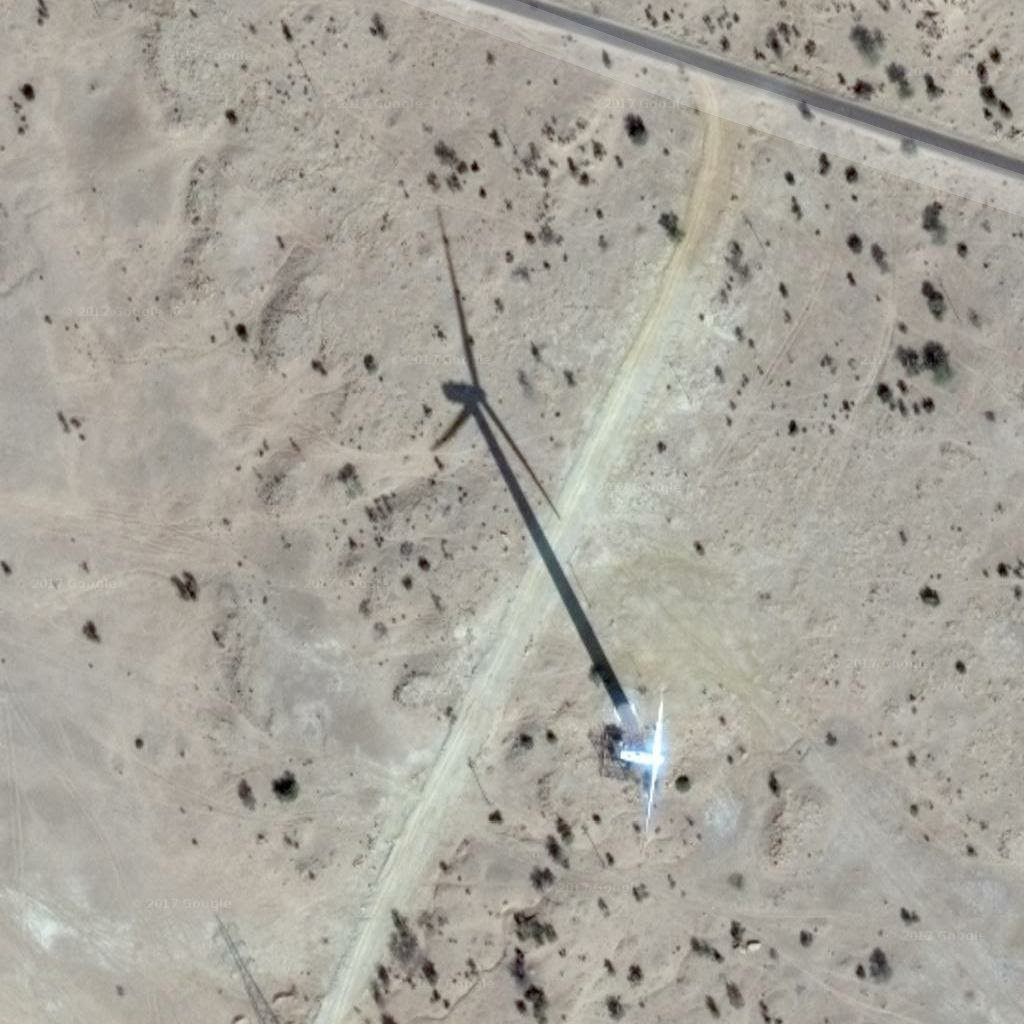Windmill: (415, 213, 638, 696)
